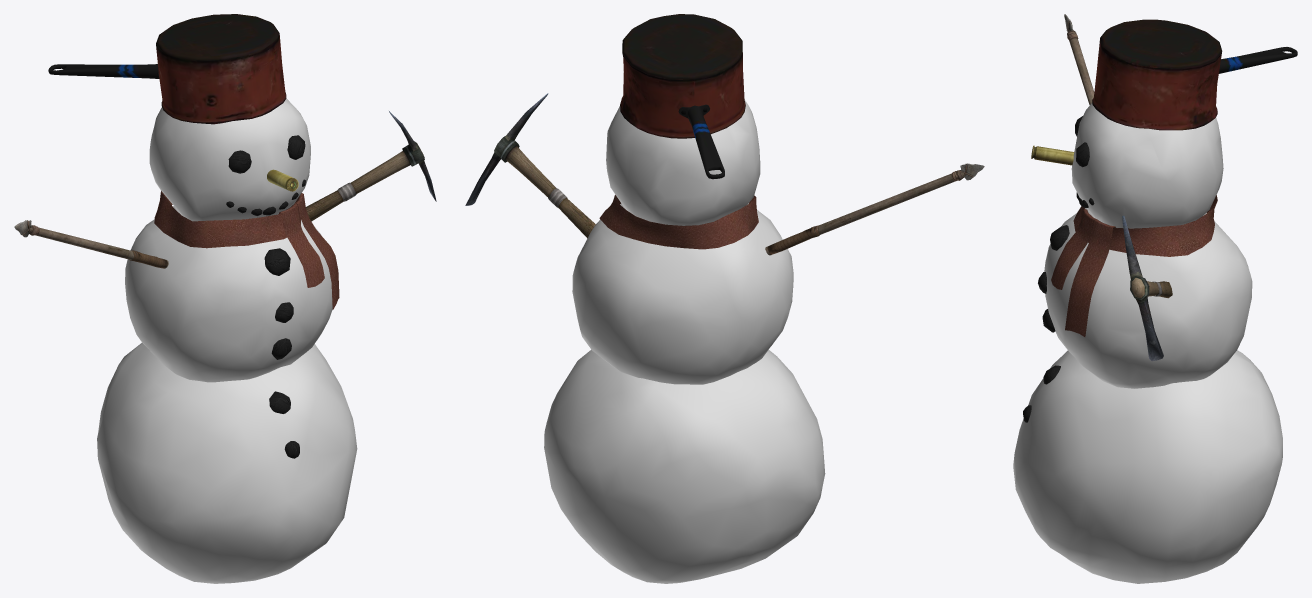
The model's file is snow_man.glb.
The picture shows the model from 3 angles, left to right: view 1: azimuth 30°, elevation 25°; view 2: azimuth 150°, elevation 25°; view 3: azimuth 270°, elevation 25°; orthographic projection.
Visible parts, largest first — view 1: snowman_LOD0, w_pickaxe_LOD0, w_stone_spear_LOD0; view 2: snowman_LOD0, w_pickaxe_LOD0, w_stone_spear_LOD0; view 3: snowman_LOD0, w_pickaxe_LOD0, w_stone_spear_LOD0, rifle_shell_LOD0.
Boxes of the visible parts, x1=… form: snowman_LOD0: x1=48, y1=14, x2=357, y2=583; w_pickaxe_LOD0: x1=305, y1=111, x2=436, y2=221; w_stone_spear_LOD0: x1=14, y1=220, x2=168, y2=268; snowman_LOD0: x1=544, y1=14, x2=825, y2=583; w_pickaxe_LOD0: x1=465, y1=93, x2=595, y2=238; w_stone_spear_LOD0: x1=765, y1=163, x2=984, y2=255; snowman_LOD0: x1=1013, y1=19, x2=1297, y2=583; w_pickaxe_LOD0: x1=1122, y1=215, x2=1172, y2=361; w_stone_spear_LOD0: x1=1064, y1=14, x2=1094, y2=104; rifle_shell_LOD0: x1=1031, y1=145, x2=1074, y2=165.
Bounding box in the file's own units: 1.68 × 1.83 × 0.8893.
Materials: 7 (6 with a texture image).
